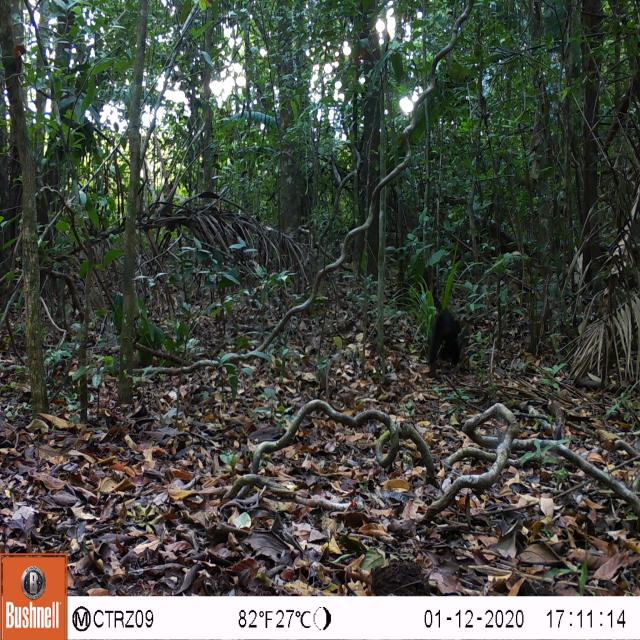Tayra: (422, 302, 469, 391)
